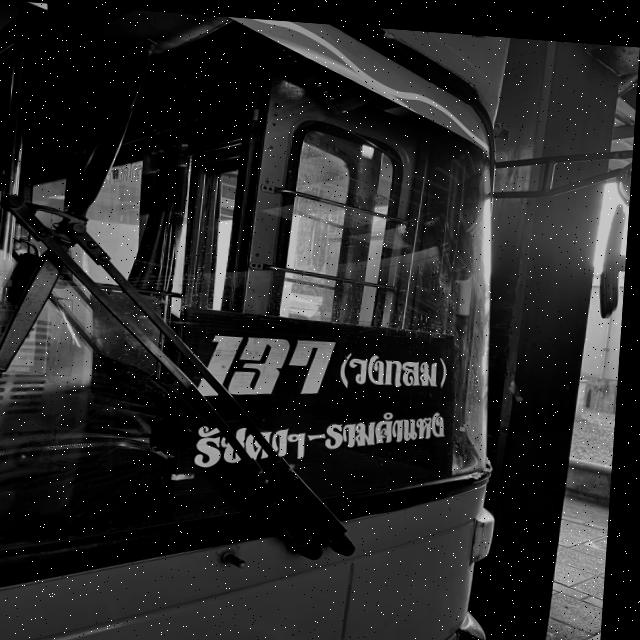Destination Sign: (171, 304, 463, 527)
